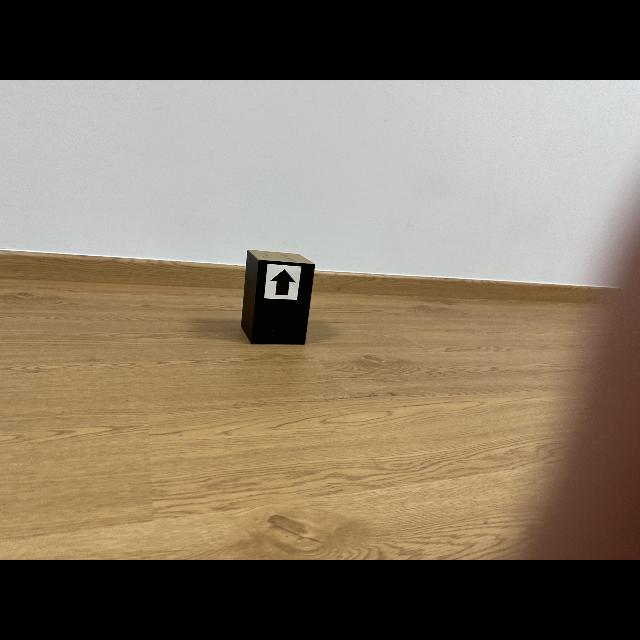UP: (270, 269, 296, 296)
